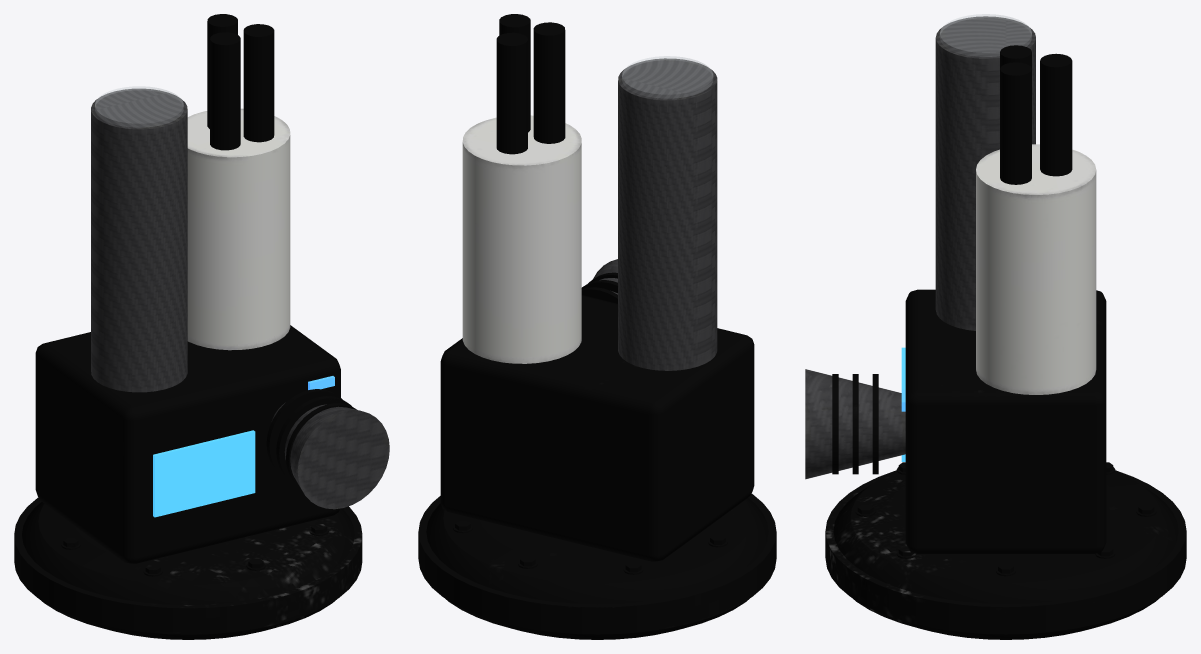
3 views of the same model, side by side, from view 1: azimuth 30°, elevation 25°; view 2: azimuth 150°, elevation 25°; view 3: azimuth 270°, elevation 25° (orthographic). The views are drawn at different scales.
Visible parts, largest first — view 1: TL06_Static_AnodizedBlack, TL06_Static_CarbonFiber, TL06_Static_Titanium, TL06_Static_PaintWhite, TL06_Static_Aluminum, TL06_Static_ScreenUI, TL06_Static_OpticalGlass; view 2: TL06_Static_AnodizedBlack, TL06_Static_Titanium, TL06_Static_CarbonFiber, TL06_Static_PaintWhite, TL06_Static_Aluminum, TL06_Static_OpticalGlass; view 3: TL06_Static_AnodizedBlack, TL06_Static_Titanium, TL06_Static_PaintWhite, TL06_Static_CarbonFiber, TL06_Static_Aluminum, TL06_Static_OpticalGlass.
Part boxes in pixels (x1,y1,x2,y2): TL06_Static_AnodizedBlack: (35,325,340,563); TL06_Static_CarbonFiber: (91,88,389,509); TL06_Static_Titanium: (14,389,362,639); TL06_Static_PaintWhite: (187,108,290,350); TL06_Static_Aluminum: (207,14,274,150); TL06_Static_ScreenUI: (153,430,255,517); TL06_Static_OpticalGlass: (95,86,183,127); TL06_Static_AnodizedBlack: (440,295,754,561); TL06_Static_Titanium: (418,272,776,639); TL06_Static_CarbonFiber: (593,58,717,370); TL06_Static_PaintWhite: (462,115,581,363); TL06_Static_Aluminum: (496,14,565,154); TL06_Static_OpticalGlass: (622,56,712,98); TL06_Static_AnodizedBlack: (905,289,1106,553); TL06_Static_Titanium: (825,374,1186,639); TL06_Static_PaintWhite: (976,144,1096,394); TL06_Static_CarbonFiber: (805,16,1035,479); TL06_Static_Aluminum: (1000,45,1072,184); TL06_Static_OpticalGlass: (940,14,1031,56).
Bounding box in the file's own units: 0.36 × 0.6 × 0.38.
Materials: 8 (6 with a texture image).
